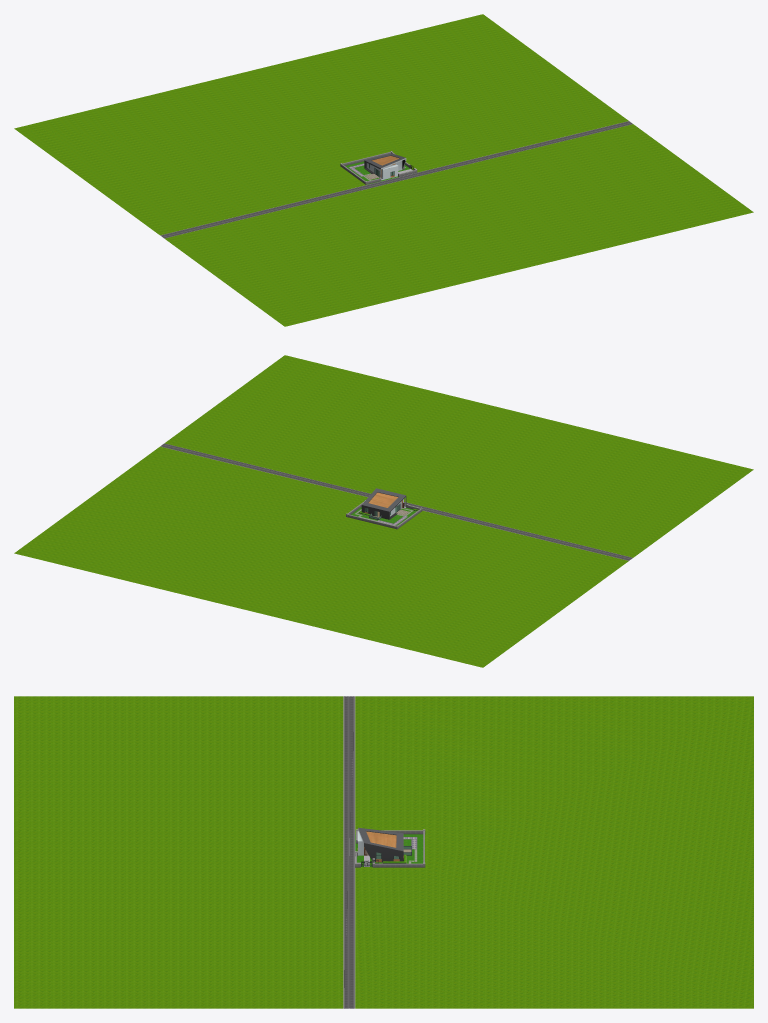
The model's file is house_0130000.FBX.
3 renders of one model, top to bottom at view 1: azimuth 30°, elevation 25°; view 2: azimuth 150°, elevation 25°; view 3: azimuth 270°, elevation 25°, orthographic. The views are drawn at different scales.
Visible parts, largest first — view 1: objhouse_0130000_groundbase_100_09, objhouse_0130000_groundbase_100_10; view 2: objhouse_0130000_groundbase_100_09, objhouse_0130000_groundbase_100_10, objhouse_0130000_roof_100_00; view 3: objhouse_0130000_groundbase_100_09, objhouse_0130000_groundbase_100_10, objhouse_0130000_roof_100_00, objhouse_0130000_groundbase_100_08.
Part boxes in pixels (x1=…): objhouse_0130000_groundbase_100_09: x1=14, y1=14, x2=753, y2=326; objhouse_0130000_groundbase_100_10: x1=160, y1=121, x2=632, y2=238; objhouse_0130000_groundbase_100_09: x1=14, y1=355, x2=753, y2=667; objhouse_0130000_groundbase_100_10: x1=160, y1=443, x2=632, y2=560; objhouse_0130000_roof_100_00: x1=361, y1=488, x2=406, y2=512; objhouse_0130000_groundbase_100_09: x1=14, y1=696, x2=753, y2=1008; objhouse_0130000_groundbase_100_10: x1=343, y1=696, x2=355, y2=1008; objhouse_0130000_roof_100_00: x1=357, y1=827, x2=403, y2=852; objhouse_0130000_groundbase_100_08: x1=355, y1=829, x2=425, y2=867.
Bounding box in the file's own units: 20003 × 582 × 20010.
Materials: 56 (56 with a texture image).
